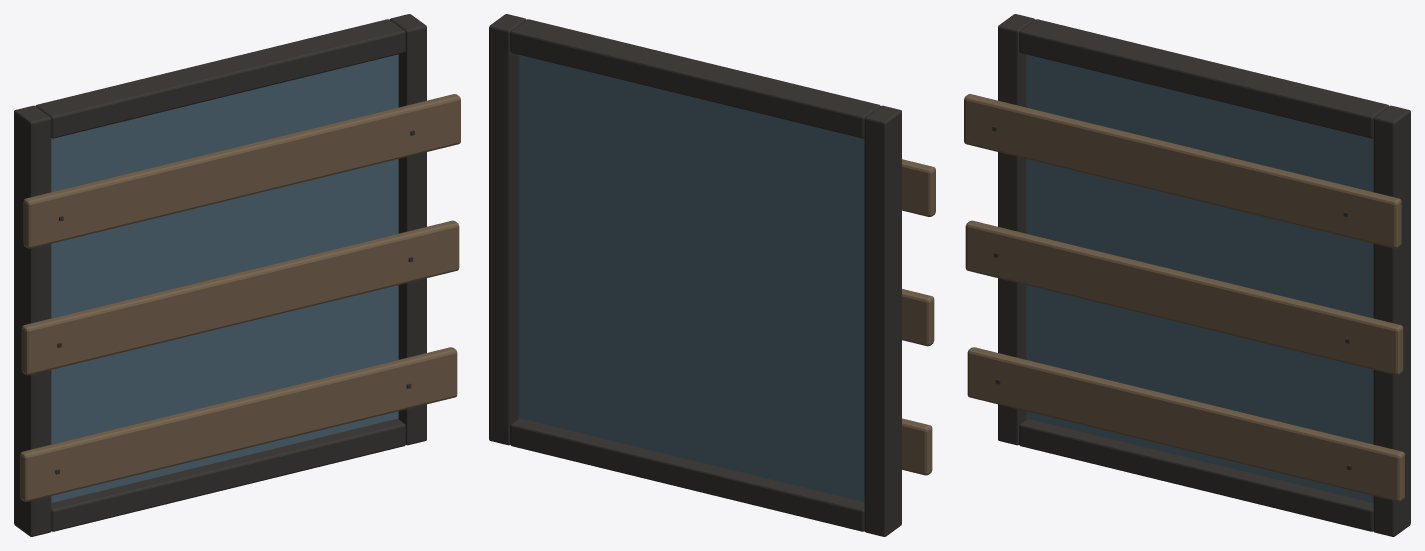
Rendered from MS_AT_12_BoardedSlats.glb.
3 views of the same model, side by side, from view 1: azimuth 30°, elevation 25°; view 2: azimuth 150°, elevation 25°; view 3: azimuth 330°, elevation 25° (orthographic).
Visible parts, largest first — view 1: Glass.001, Timber.003, Timber.002, Timber.004, WindowFrame.007, WindowFrame.004, WindowFrame.006, WindowFrame.005; view 2: Glass.001, WindowFrame.004, WindowFrame.007, WindowFrame.005, WindowFrame.006, Timber.004, Timber.003, Timber.002; view 3: Glass.001, Timber.003, Timber.002, Timber.004, WindowFrame.007, WindowFrame.005, WindowFrame.006, WindowFrame.004.
Part boxes in pixels (x1,y1,x2,y2): Glass.001: [51, 54, 398, 502]; Timber.003: [21, 220, 459, 375]; Timber.002: [20, 347, 457, 501]; Timber.004: [23, 94, 460, 248]; WindowFrame.007: [35, 19, 405, 138]; WindowFrame.004: [14, 105, 51, 536]; WindowFrame.006: [51, 419, 405, 531]; WindowFrame.005: [390, 14, 426, 445]; Glass.001: [518, 54, 864, 502]; WindowFrame.004: [864, 105, 901, 536]; WindowFrame.007: [510, 19, 880, 138]; WindowFrame.005: [489, 14, 526, 445]; WindowFrame.006: [510, 418, 864, 531]; Timber.004: [902, 159, 935, 216]; Timber.003: [902, 289, 934, 346]; Timber.002: [902, 418, 932, 475]; Glass.001: [1026, 54, 1373, 502]; Timber.003: [965, 220, 1403, 375]; Timber.002: [967, 347, 1404, 501]; Timber.004: [964, 94, 1401, 248]; WindowFrame.007: [1019, 19, 1389, 138]; WindowFrame.005: [1373, 105, 1410, 536]; WindowFrame.006: [1019, 419, 1373, 531]; WindowFrame.004: [998, 14, 1034, 445].
Size of the model in its own units: 1.42 by 1.3 by 0.196.
